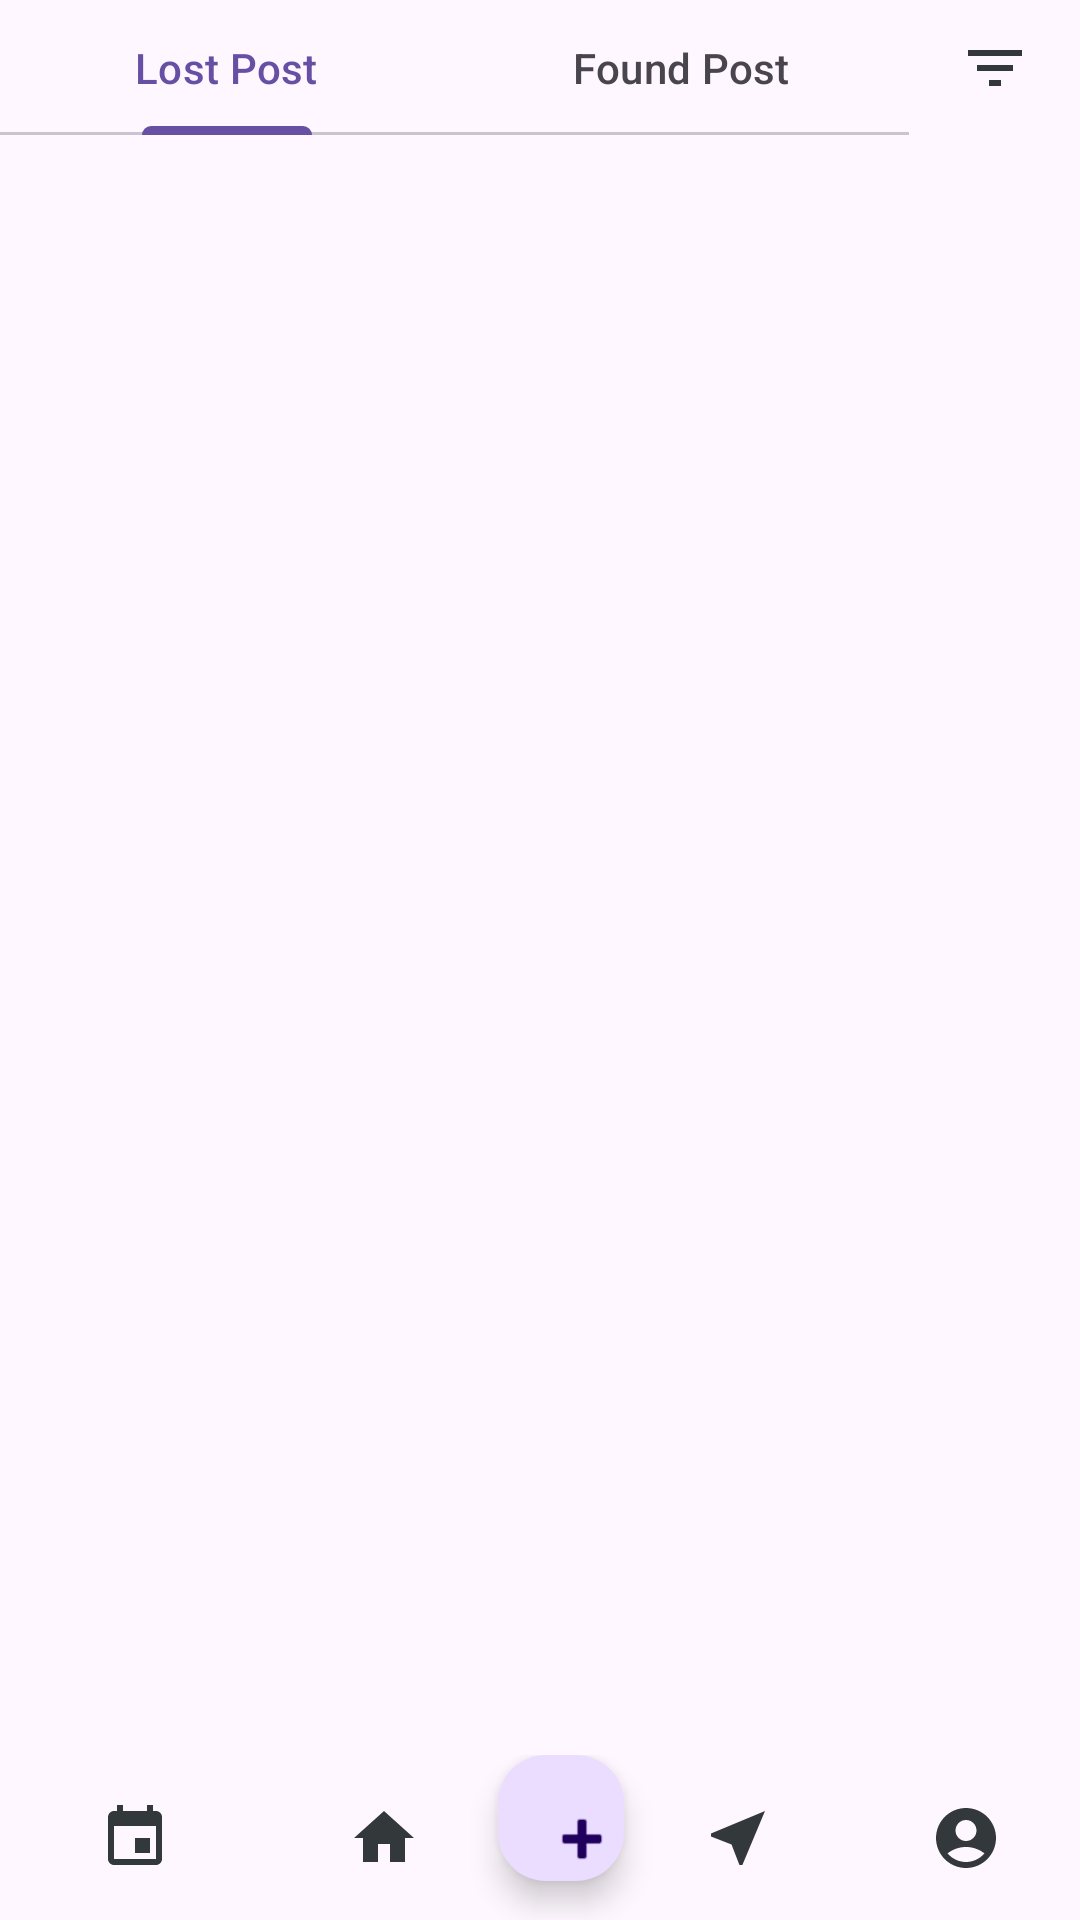

Locate icon controls on the screen. Image size 1080*1920, boxes as bbox=[x1, y1, x2, y2].
add: bbox=[498, 1755, 624, 1881]
event.xml: bbox=[108, 1805, 162, 1865]
filter.xml: bbox=[968, 50, 1022, 86]
home: bbox=[354, 1811, 414, 1862]
me.xml: bbox=[936, 1808, 996, 1868]
nearby: bbox=[711, 1811, 765, 1865]
